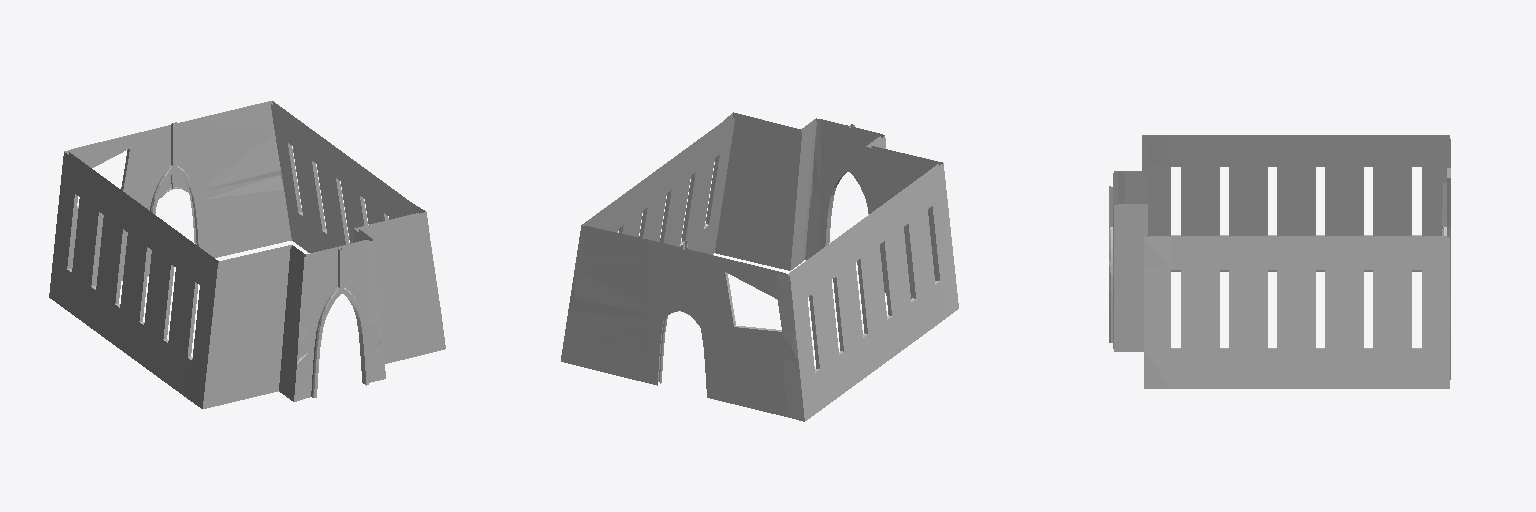
Rendered from TempleHall.obj.
3 renders of one model, left to right at view 1: azimuth 30°, elevation 25°; view 2: azimuth 150°, elevation 25°; view 3: azimuth 270°, elevation 25°, orthographic.
Parts seen in each view (by area): view 1: TempleHall; view 2: TempleHall; view 3: TempleHall.
Boxes of the visible parts, x1=… form: TempleHall: x1=49, y1=101, x2=445, y2=408; TempleHall: x1=561, y1=112, x2=958, y2=421; TempleHall: x1=1109, y1=135, x2=1450, y2=388.
Size of the model in its own units: 1984 by 1148 by 2400.